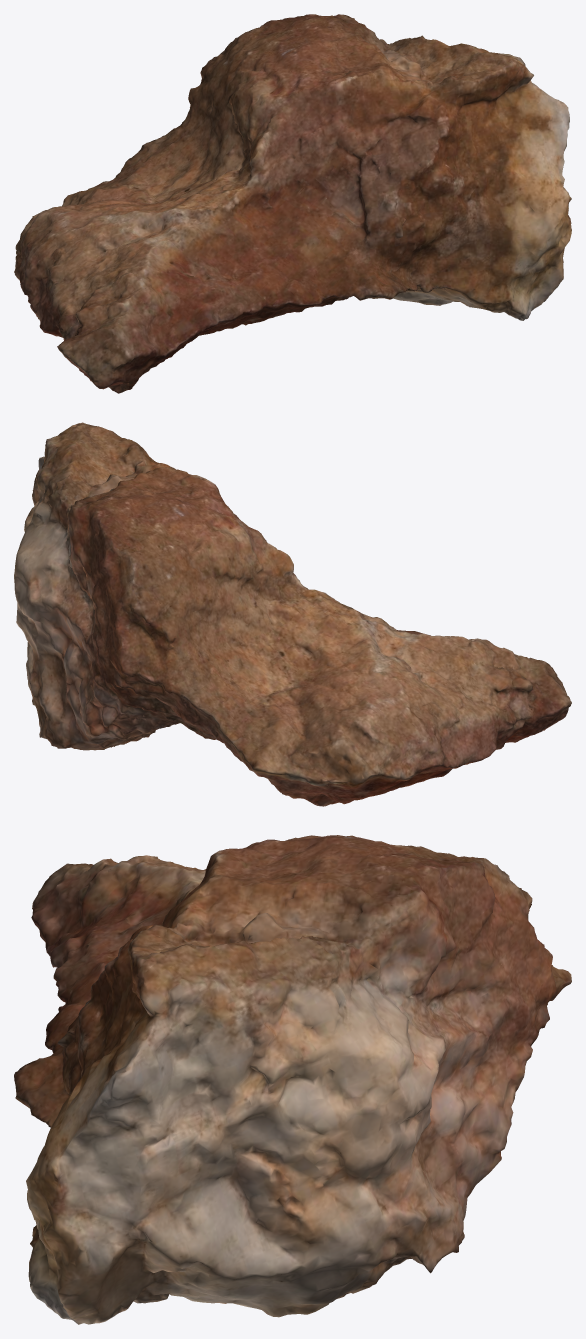
The model's file is stone_01.glb.
The picture shows the model from 3 angles, top to bottom: view 1: azimuth 30°, elevation 25°; view 2: azimuth 150°, elevation 25°; view 3: azimuth 270°, elevation 25°; orthographic projection. The views are drawn at different scales.
Parts seen in each view (by area): view 1: stone_01; view 2: stone_01; view 3: stone_01.
Boxes of the visible parts, box(x1,y1,x2,y2) form: stone_01: box(14, 14, 571, 393); stone_01: box(14, 422, 571, 806); stone_01: box(14, 835, 571, 1324).
Size of the model in its own units: 0.1469 by 0.0718 by 0.0891.
1 material, 1 textured.
